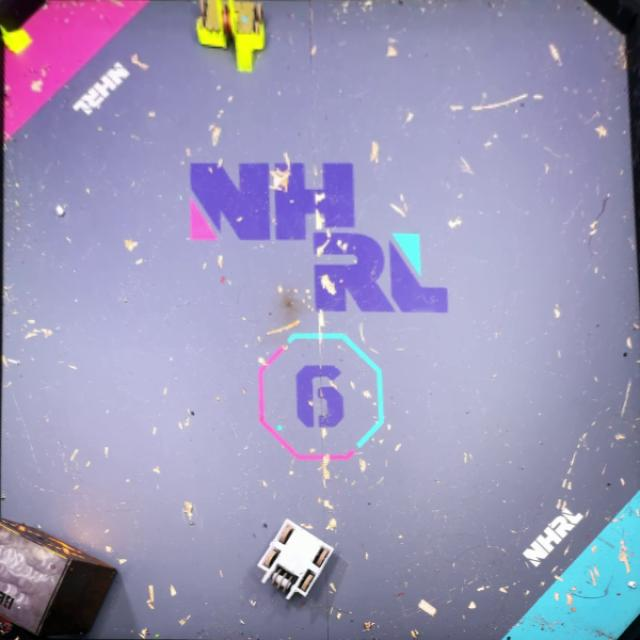housebot: (0, 511, 119, 640)
robot: (258, 518, 336, 604), (194, 0, 271, 74)
